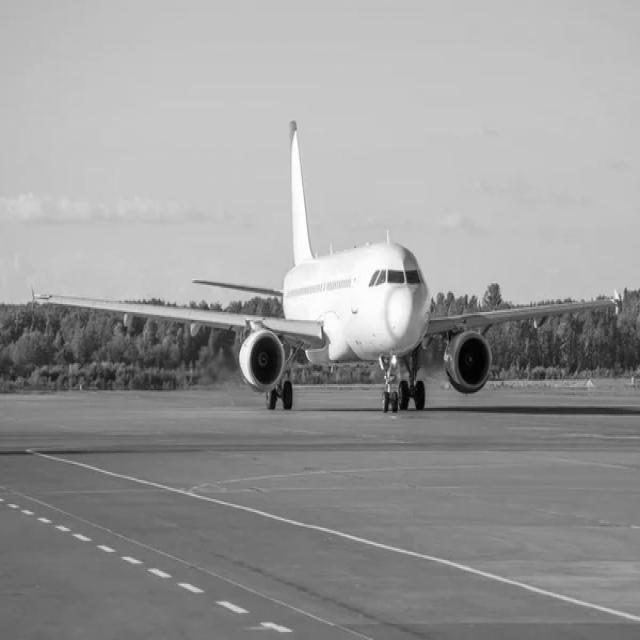Aircraft: (33, 121, 620, 416)
